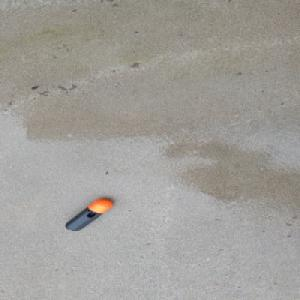PlasticPart: (64, 198, 112, 231)
